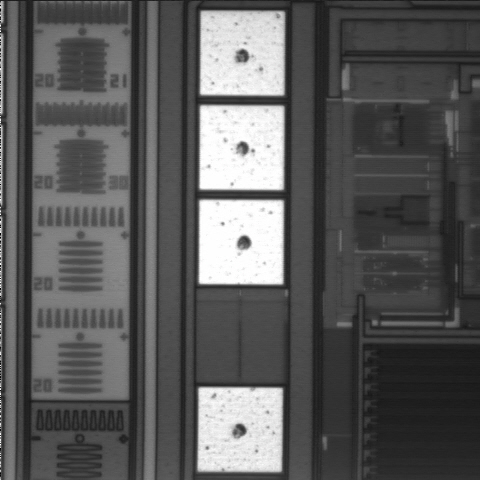pad: (199, 105, 284, 190), (198, 387, 283, 472), (199, 200, 284, 284), (200, 11, 284, 95)
